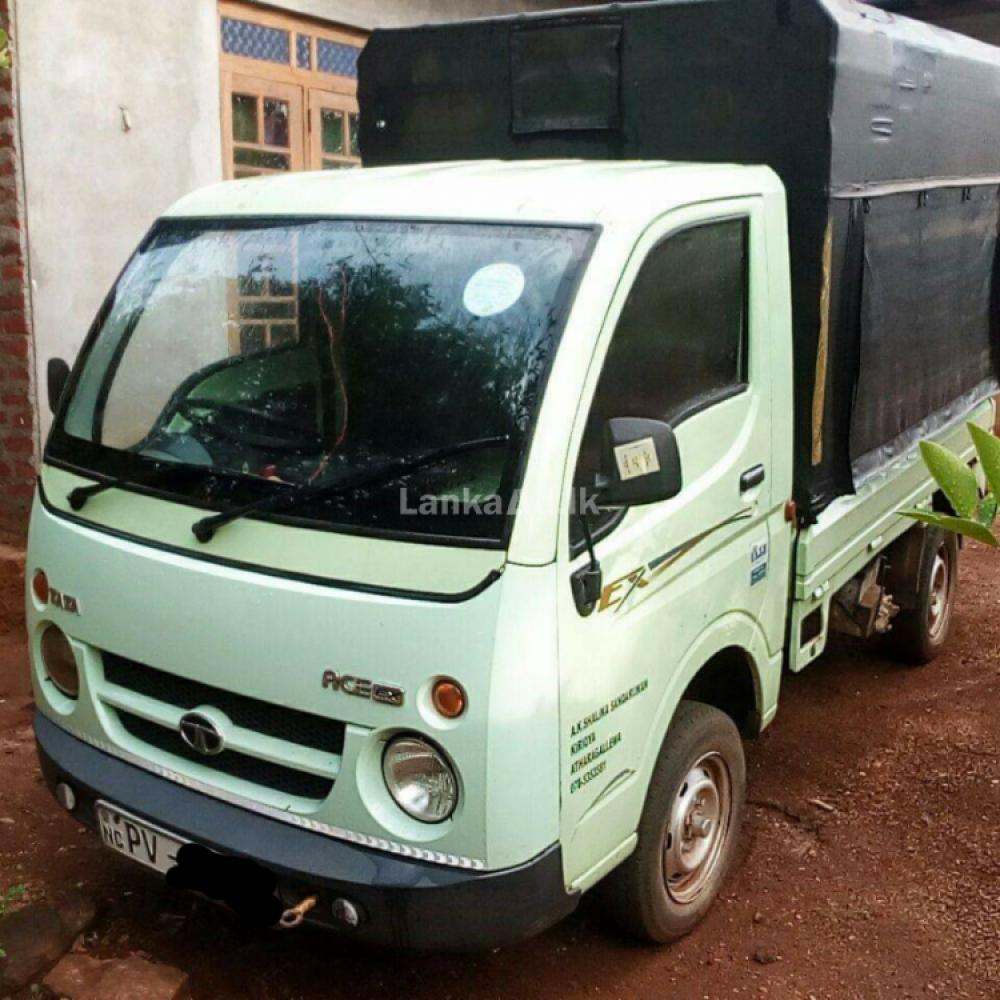truck: (24, 1, 1000, 960)
